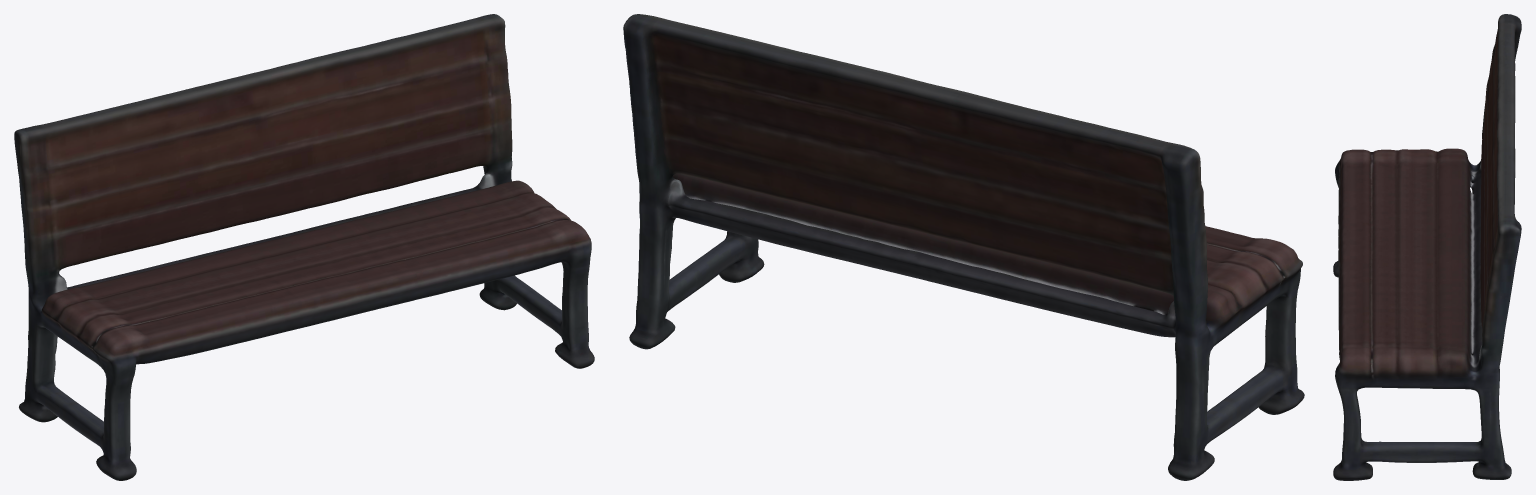
The model's file is StreetBench.fbx.
The picture shows the model from 3 angles, left to right: view 1: azimuth 30°, elevation 25°; view 2: azimuth 150°, elevation 25°; view 3: azimuth 270°, elevation 25°; orthographic projection. The views are drawn at different scales.
Visible parts, largest first — view 1: high_poly; view 2: high_poly; view 3: high_poly.
Boxes of the visible parts, x1,y1,x2,y2 form: high_poly: (14, 14, 594, 480); high_poly: (623, 14, 1304, 480); high_poly: (1333, 14, 1521, 480).
Size of the model in its own units: 100 by 55.66 by 36.84.
